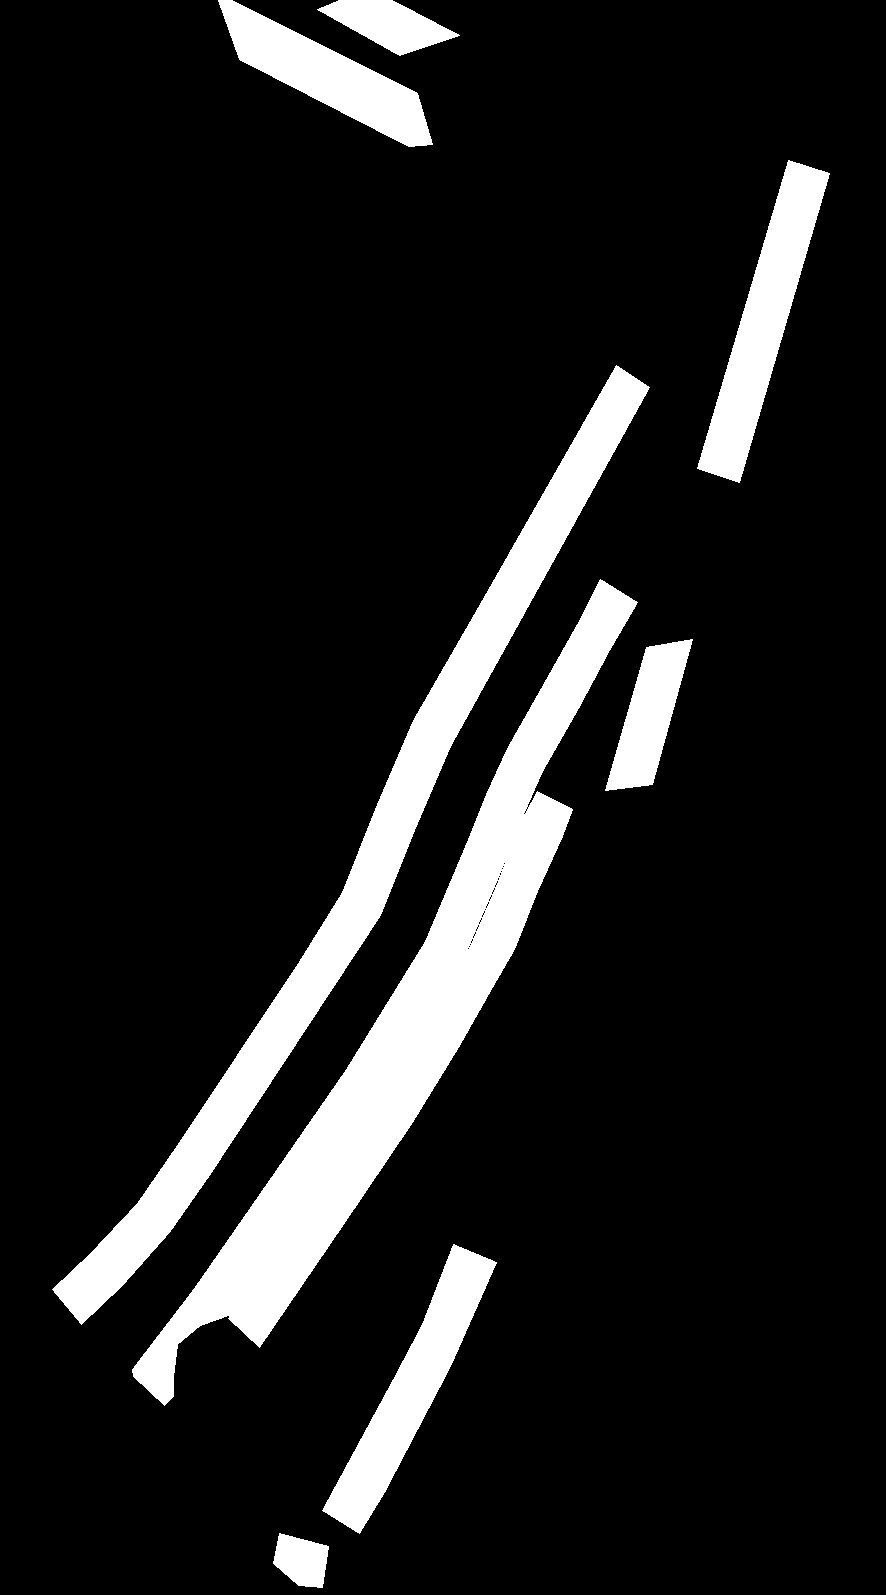parkingspot: (52, 365, 649, 1324), (132, 579, 637, 1405), (228, 791, 572, 1347), (322, 1244, 496, 1533), (697, 160, 829, 482), (218, 0, 432, 146), (604, 639, 692, 790), (318, 0, 459, 55), (273, 1533, 328, 1587)
